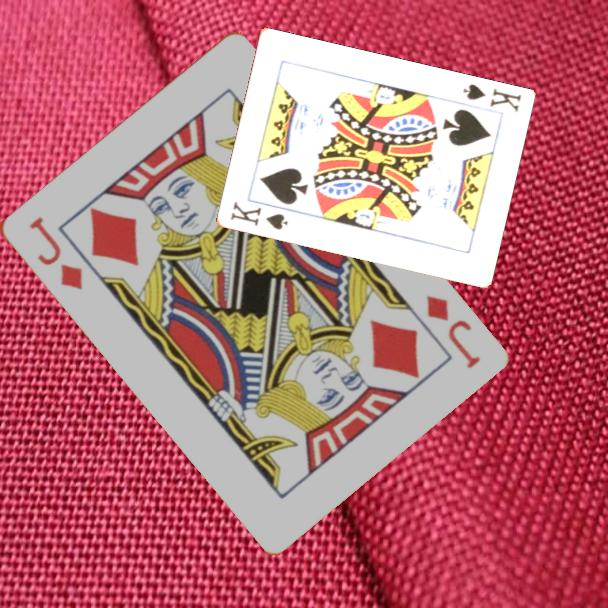d11: (422, 291, 483, 372), (25, 213, 85, 293)
s13: (227, 198, 291, 233), (460, 81, 524, 115)
